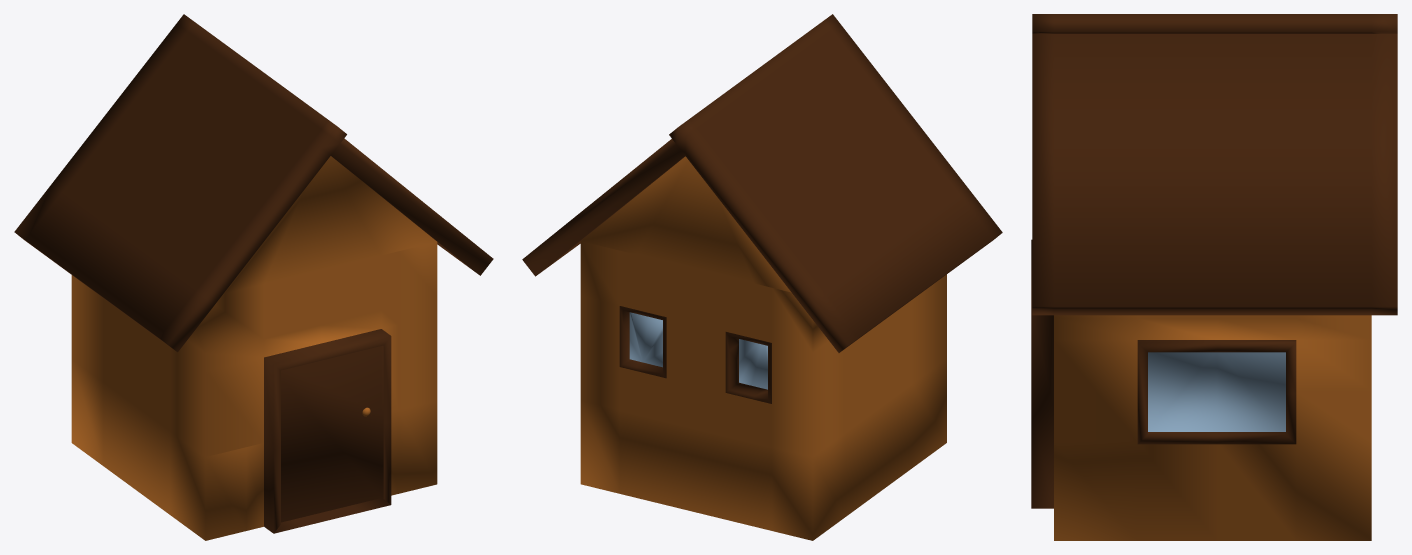
File: Haus.fbx
The picture shows the model from 3 angles, left to right: view 1: azimuth 30°, elevation 25°; view 2: azimuth 150°, elevation 25°; view 3: azimuth 270°, elevation 25°; orthographic projection. The views are drawn at different scales.
Parts seen in each view (by area): view 1: Haus; view 2: Haus; view 3: Haus.
Boxes of the visible parts, x1,y1,x2,y2 form: Haus: (14, 14, 493, 540); Haus: (522, 14, 1002, 540); Haus: (1031, 14, 1397, 540).
Size of the model in its own units: 281 by 322 by 231.
